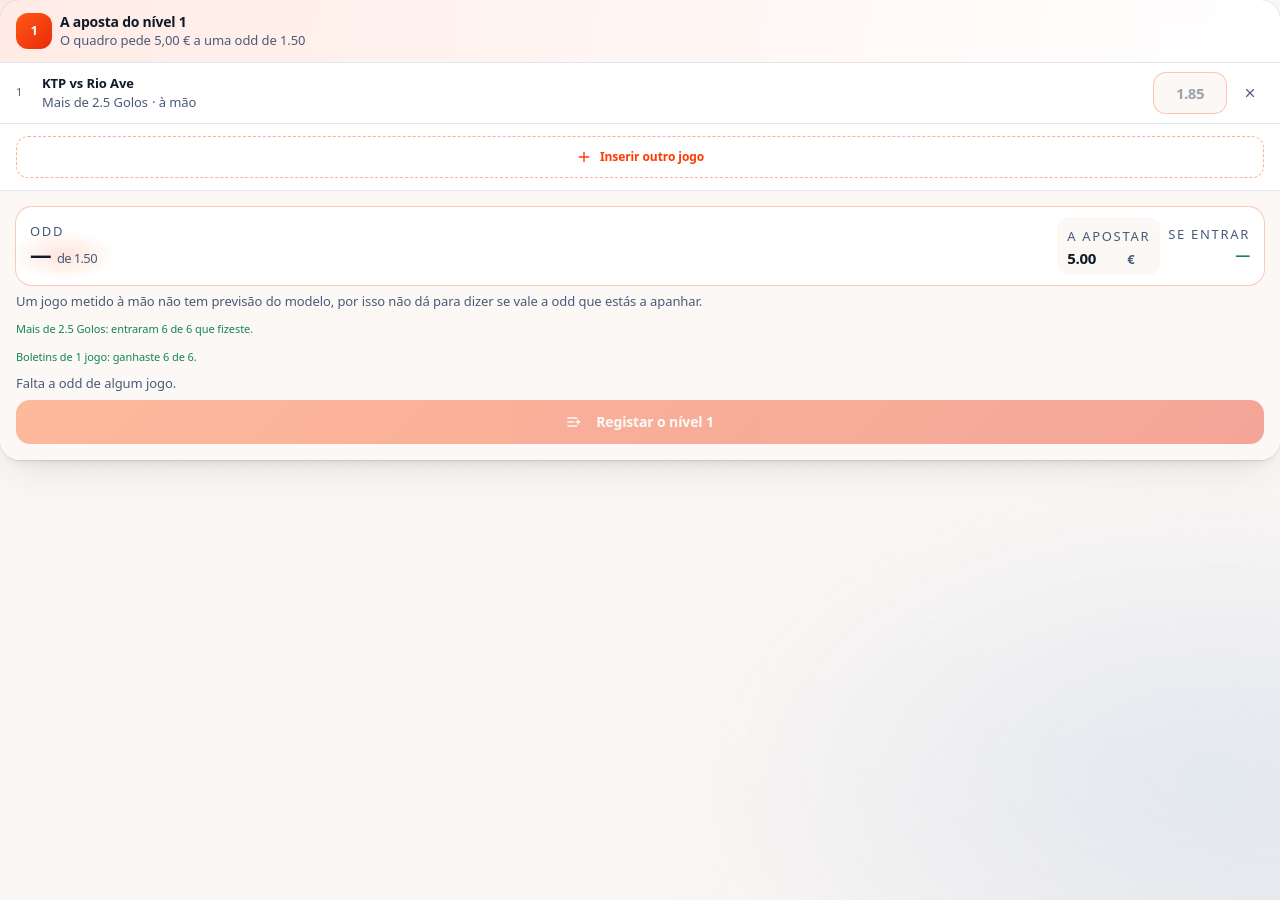
Test: what the slip says about the price being taken › falls back to this person's own record on the market
In the field named "Odd de KTP vs Rio Ave": (1190, 92) [1154,72,1226,112], type "1.47"
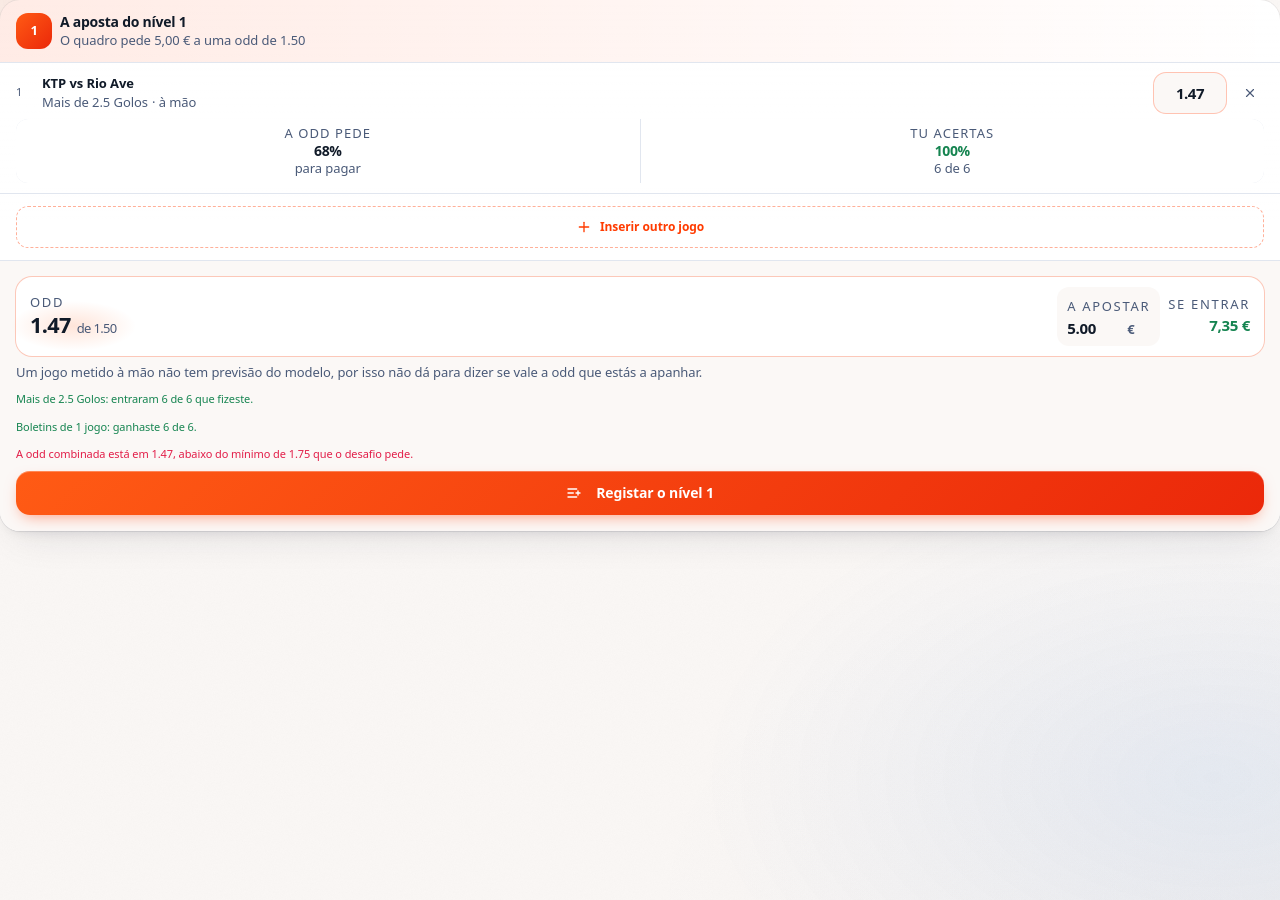
Now the text "tu acertas" is shown, box [910,124,994,142]
Now the text "6 de 6" is shown, box [934,159,970,177]
